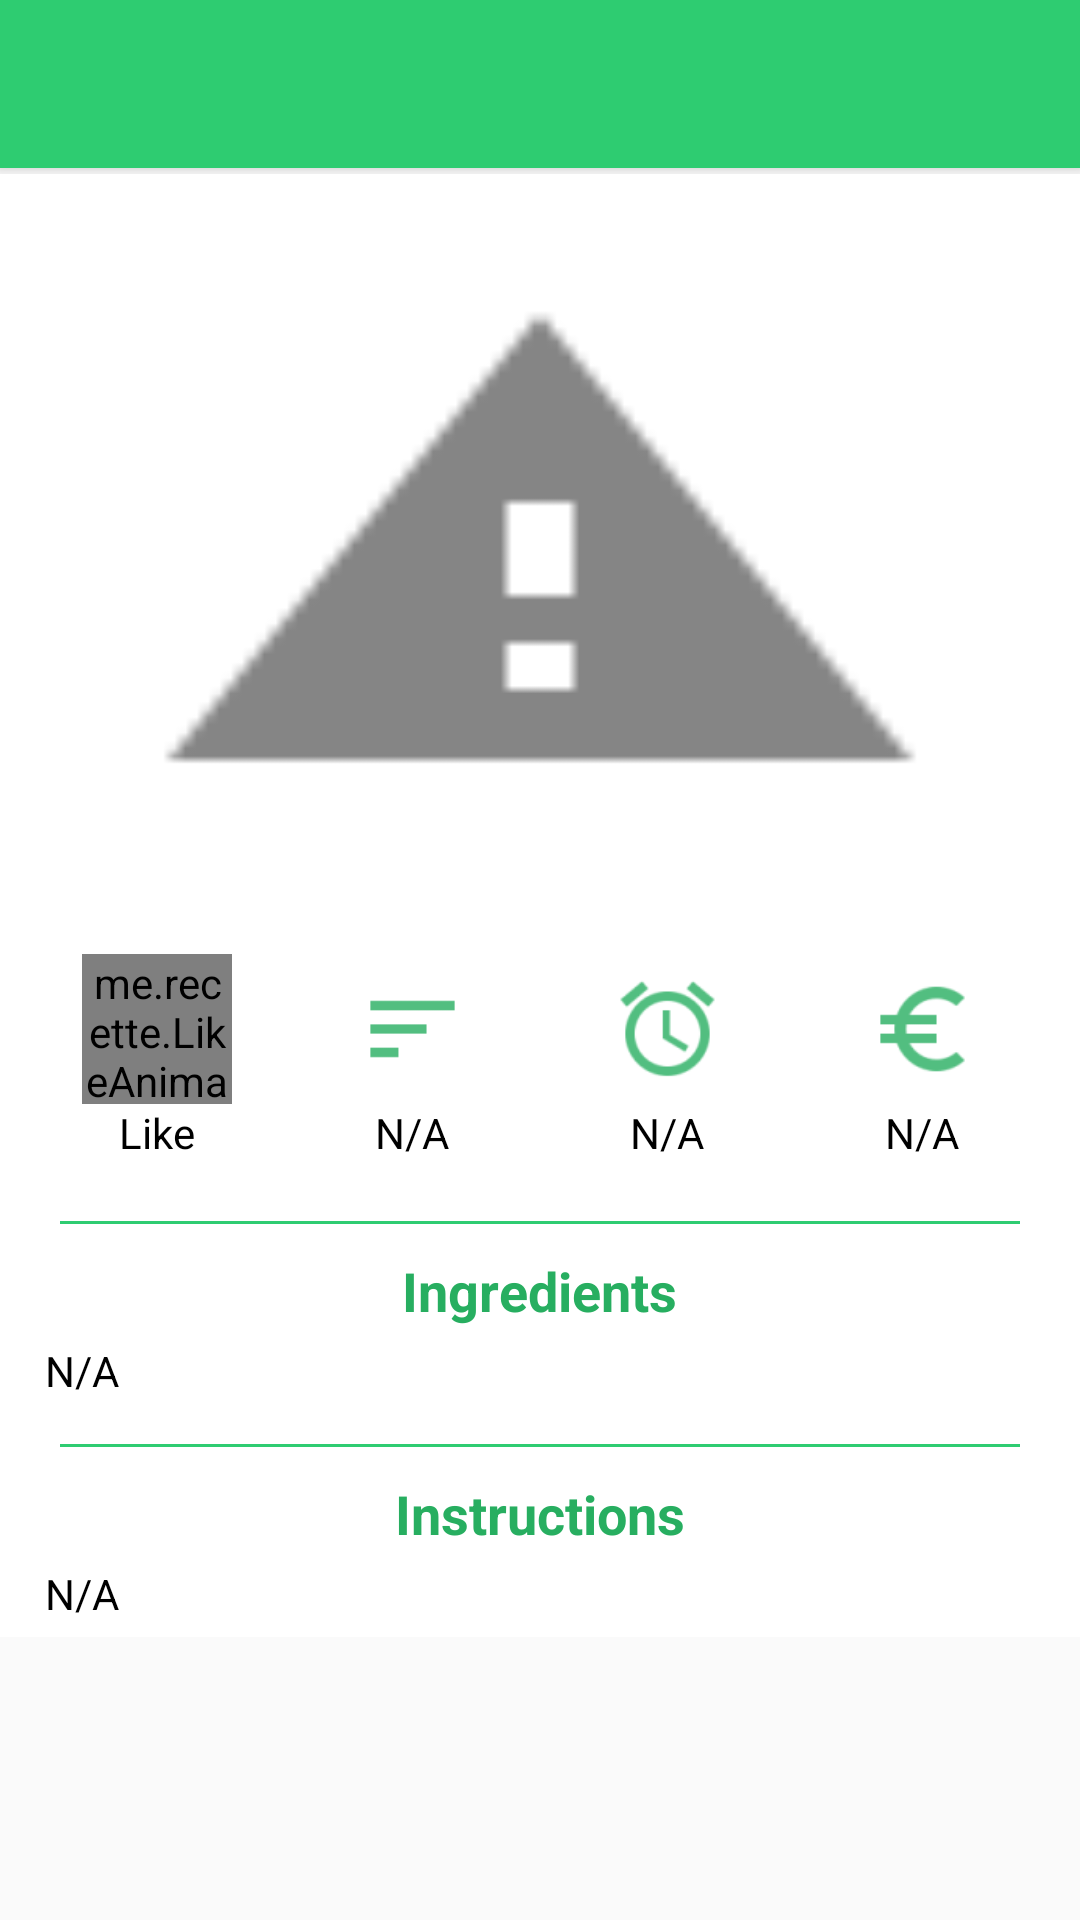

Icon bounding boxes for this 1080x1920 phone screenshot, format (x1, y1, x2, y2):
alarm: (620, 981, 715, 1076)
euro: (880, 986, 965, 1072)
level: (370, 1000, 455, 1058)
